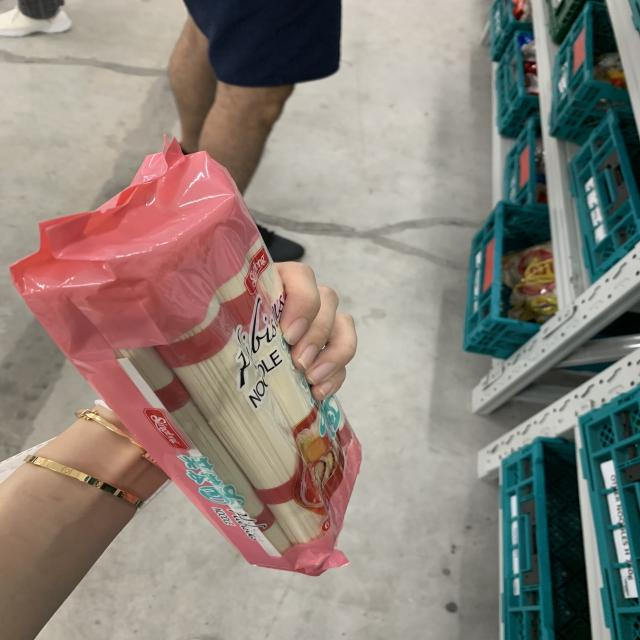object_name: (57, 188, 385, 545)
